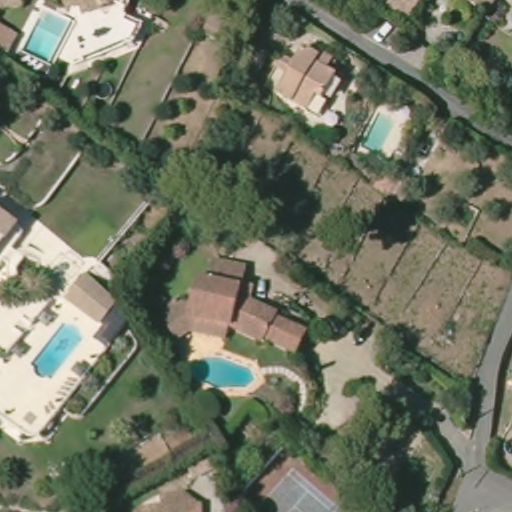pool: (186, 350, 261, 393), (30, 323, 83, 381), (21, 10, 74, 64), (357, 107, 400, 157)
